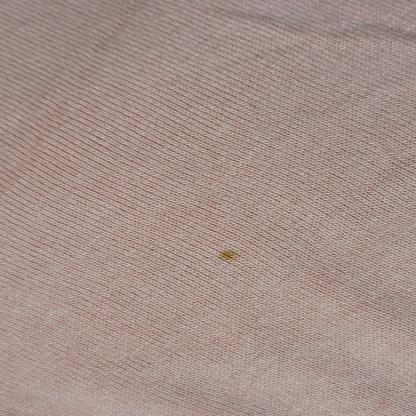spot: (212, 244, 242, 262)
